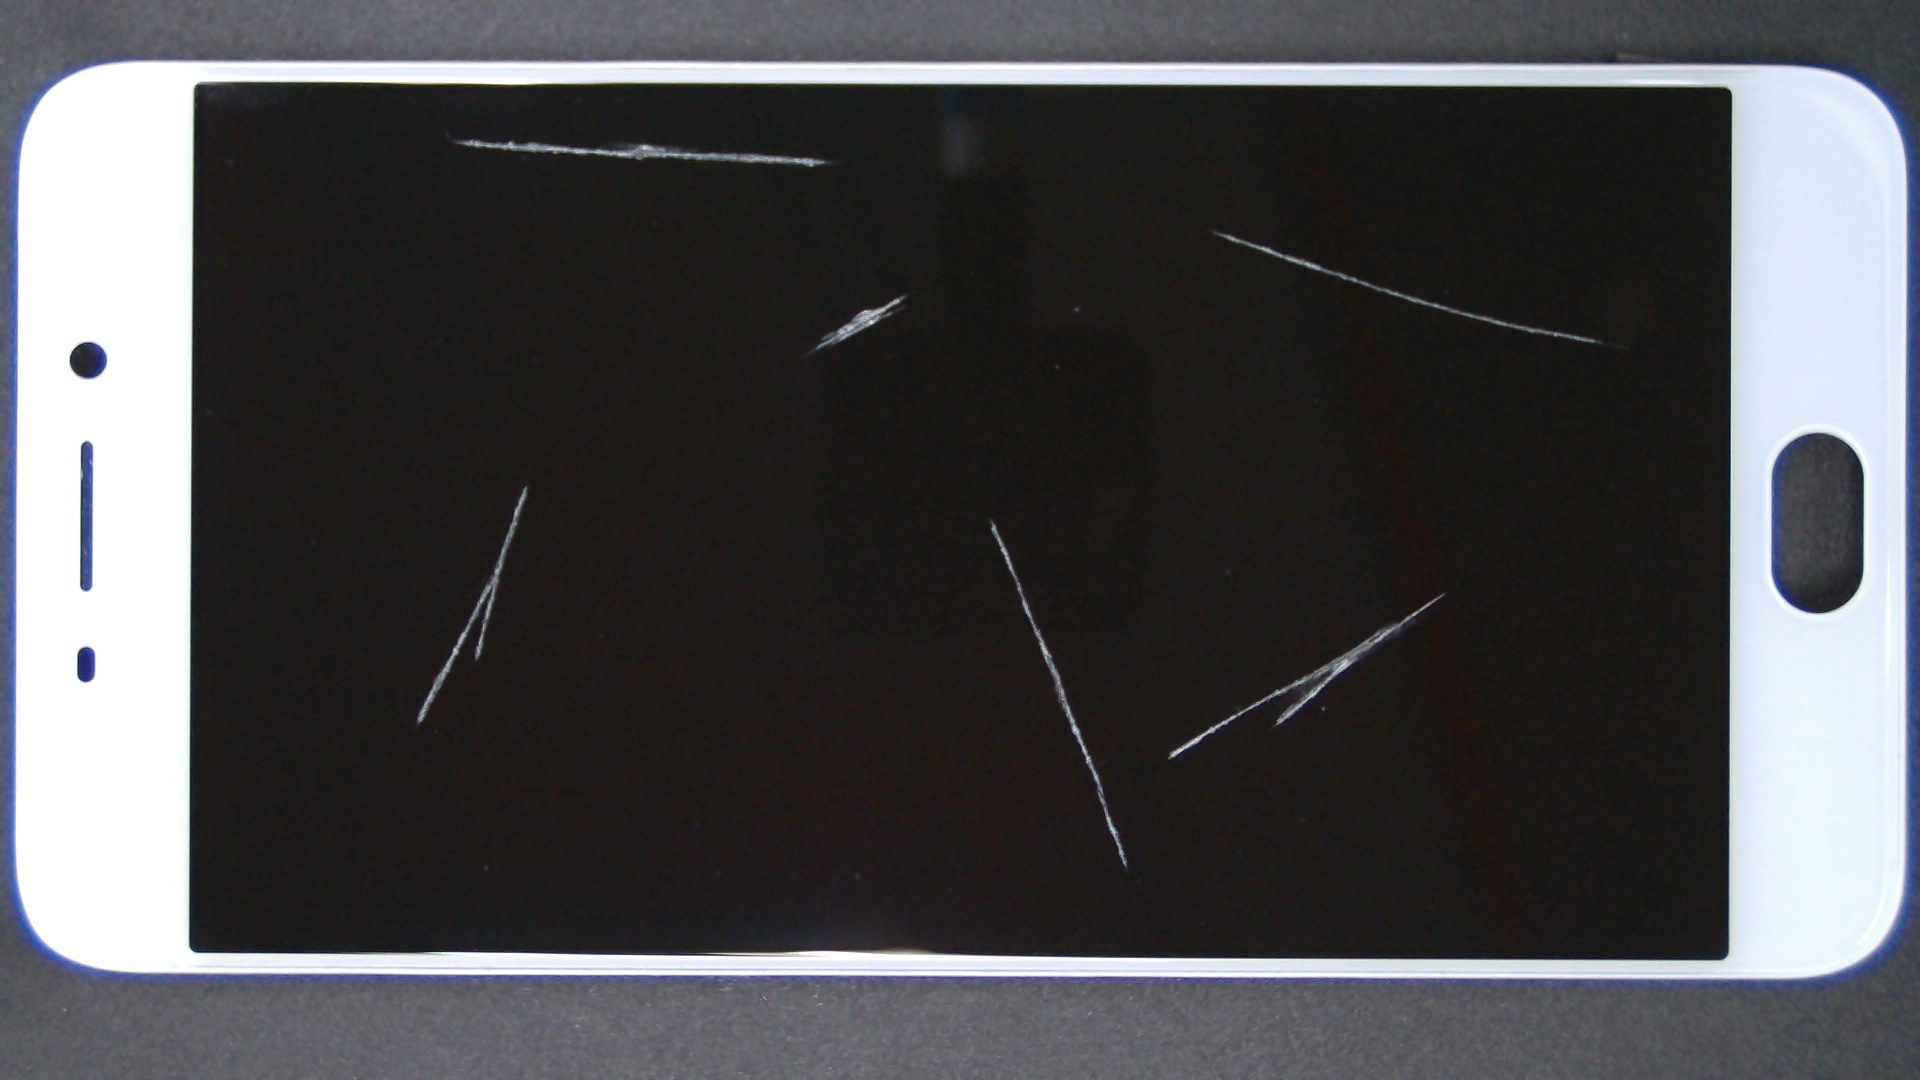oil: (723, 295, 1920, 889), (496, 258, 1486, 779), (607, 115, 1821, 348), (454, 146, 1358, 442), (264, 241, 786, 729), (236, 69, 705, 207)
